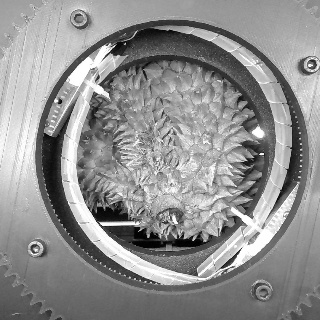base: (150, 193, 182, 227)
end: (155, 207, 185, 226)
